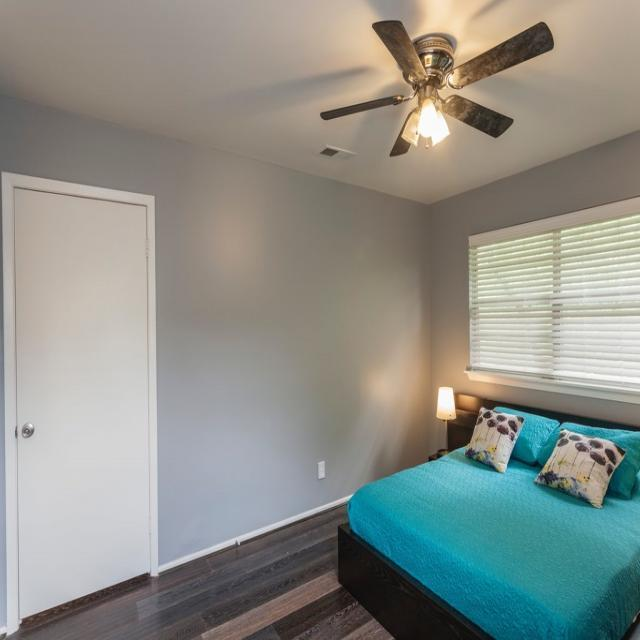fan_off: (311, 12, 559, 158)
